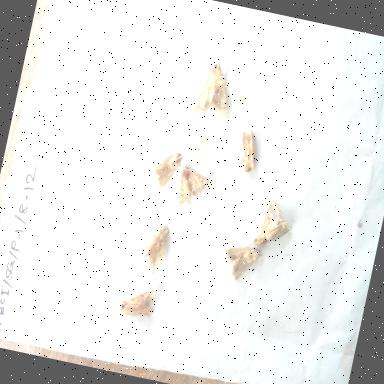abw: (243, 192, 298, 265), (188, 56, 240, 126), (130, 212, 178, 282), (168, 158, 218, 222), (139, 142, 191, 202), (215, 232, 267, 290), (225, 118, 271, 182), (112, 280, 161, 326)
